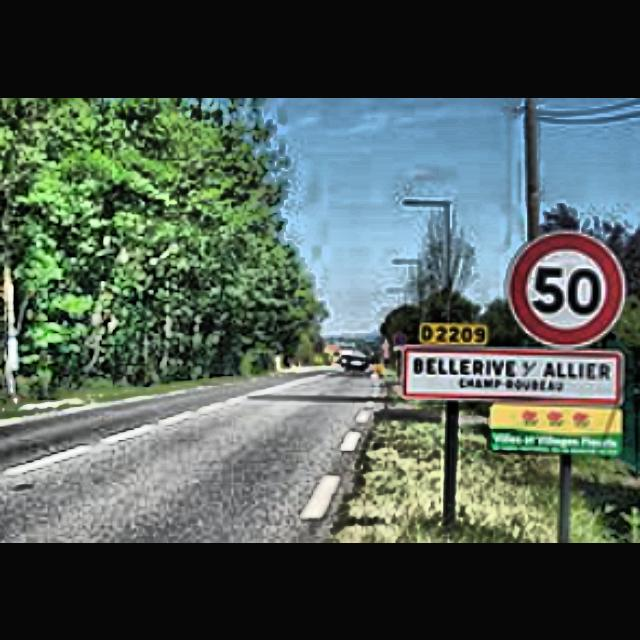speed_50: (508, 228, 628, 348)
